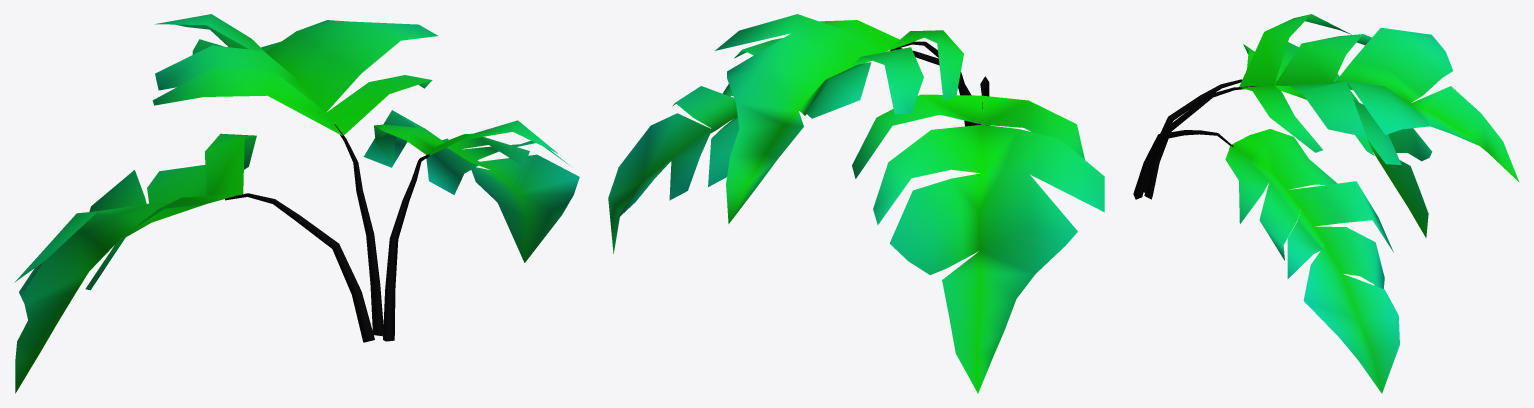
The model's file is SM_EagleFern_04.fbx.
3 renders of one model, left to right at view 1: azimuth 30°, elevation 25°; view 2: azimuth 150°, elevation 25°; view 3: azimuth 270°, elevation 25°, orthographic. The views are drawn at different scales.
Parts seen in each view (by area): view 1: SM_EagleFern_04_LOD0; view 2: SM_EagleFern_04_LOD0; view 3: SM_EagleFern_04_LOD0.
Part boxes in pixels (box(x1,y1,x2,y2)): SM_EagleFern_04_LOD0: box(14, 14, 579, 393); SM_EagleFern_04_LOD0: box(608, 14, 1104, 393); SM_EagleFern_04_LOD0: box(1133, 14, 1518, 393).
Size of the model in its own units: 72.64 by 53.86 by 41.86.
